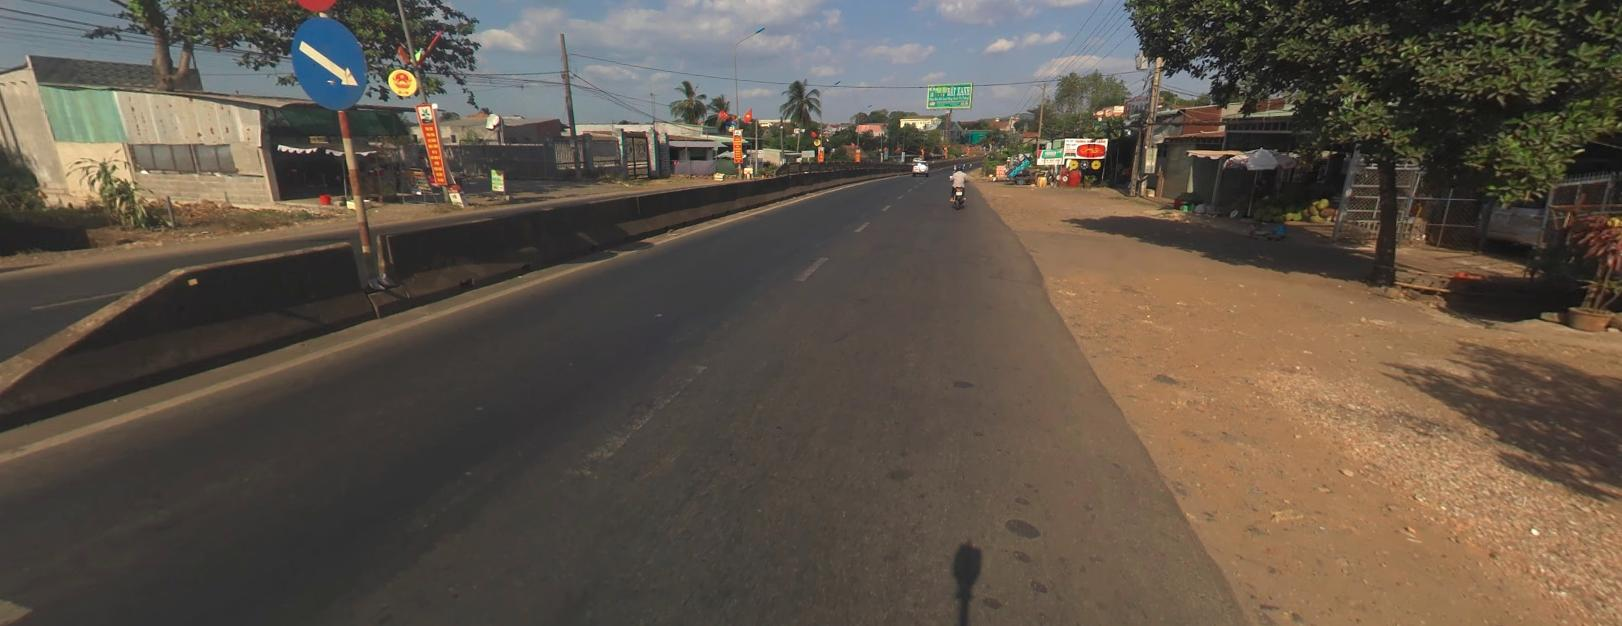Cam dung va do: (290, 0, 341, 13)
Hieu lenh: (289, 17, 369, 110)
